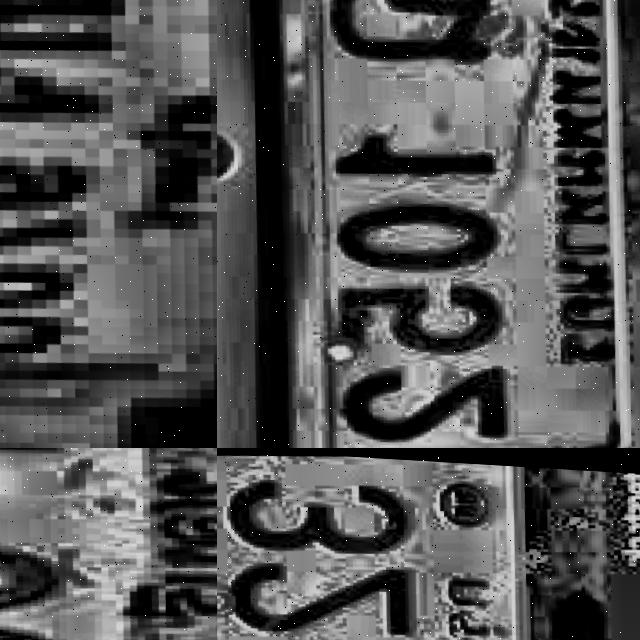license-plate: (228, 0, 640, 448), (0, 0, 217, 433), (217, 448, 563, 640), (0, 448, 217, 640)
